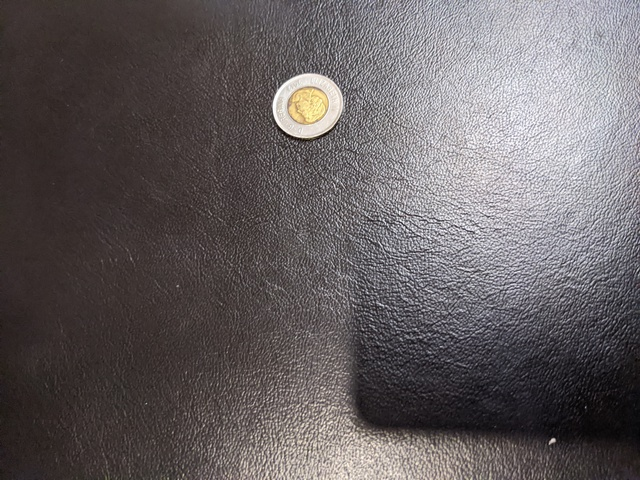twonie: (266, 68, 349, 156)
